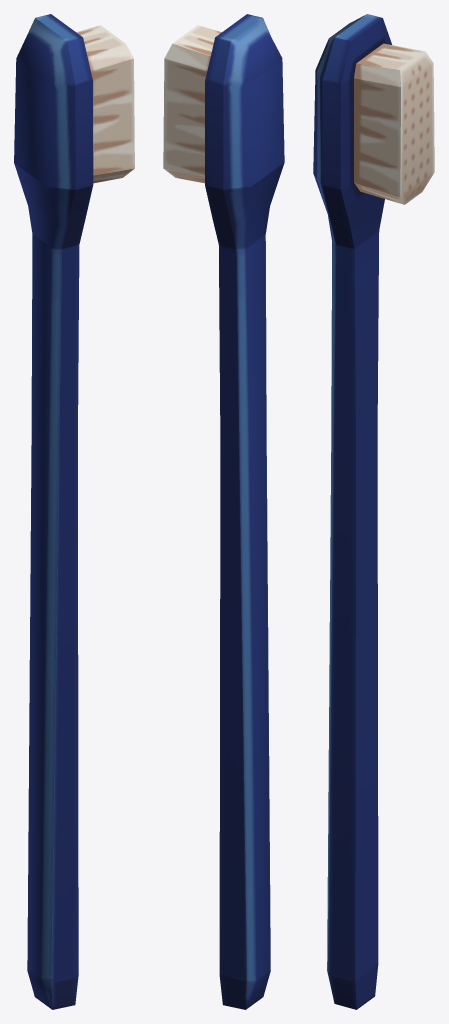
The model's file is bathroom_toothbrush_1.fbx.
3 renders of one model, left to right at view 1: azimuth 30°, elevation 25°; view 2: azimuth 150°, elevation 25°; view 3: azimuth 330°, elevation 25°, orthographic.
Visible parts, largest first — view 1: bathroom_toothbrush_1; view 2: bathroom_toothbrush_1; view 3: bathroom_toothbrush_1.
Part boxes in pixels (box(x1,y1,x2,y2)): bathroom_toothbrush_1: box(14, 14, 134, 1009); bathroom_toothbrush_1: box(163, 14, 284, 1009); bathroom_toothbrush_1: box(313, 14, 434, 1009).
Size of the model in its own units: 2.41 by 25.65 by 2.51.
